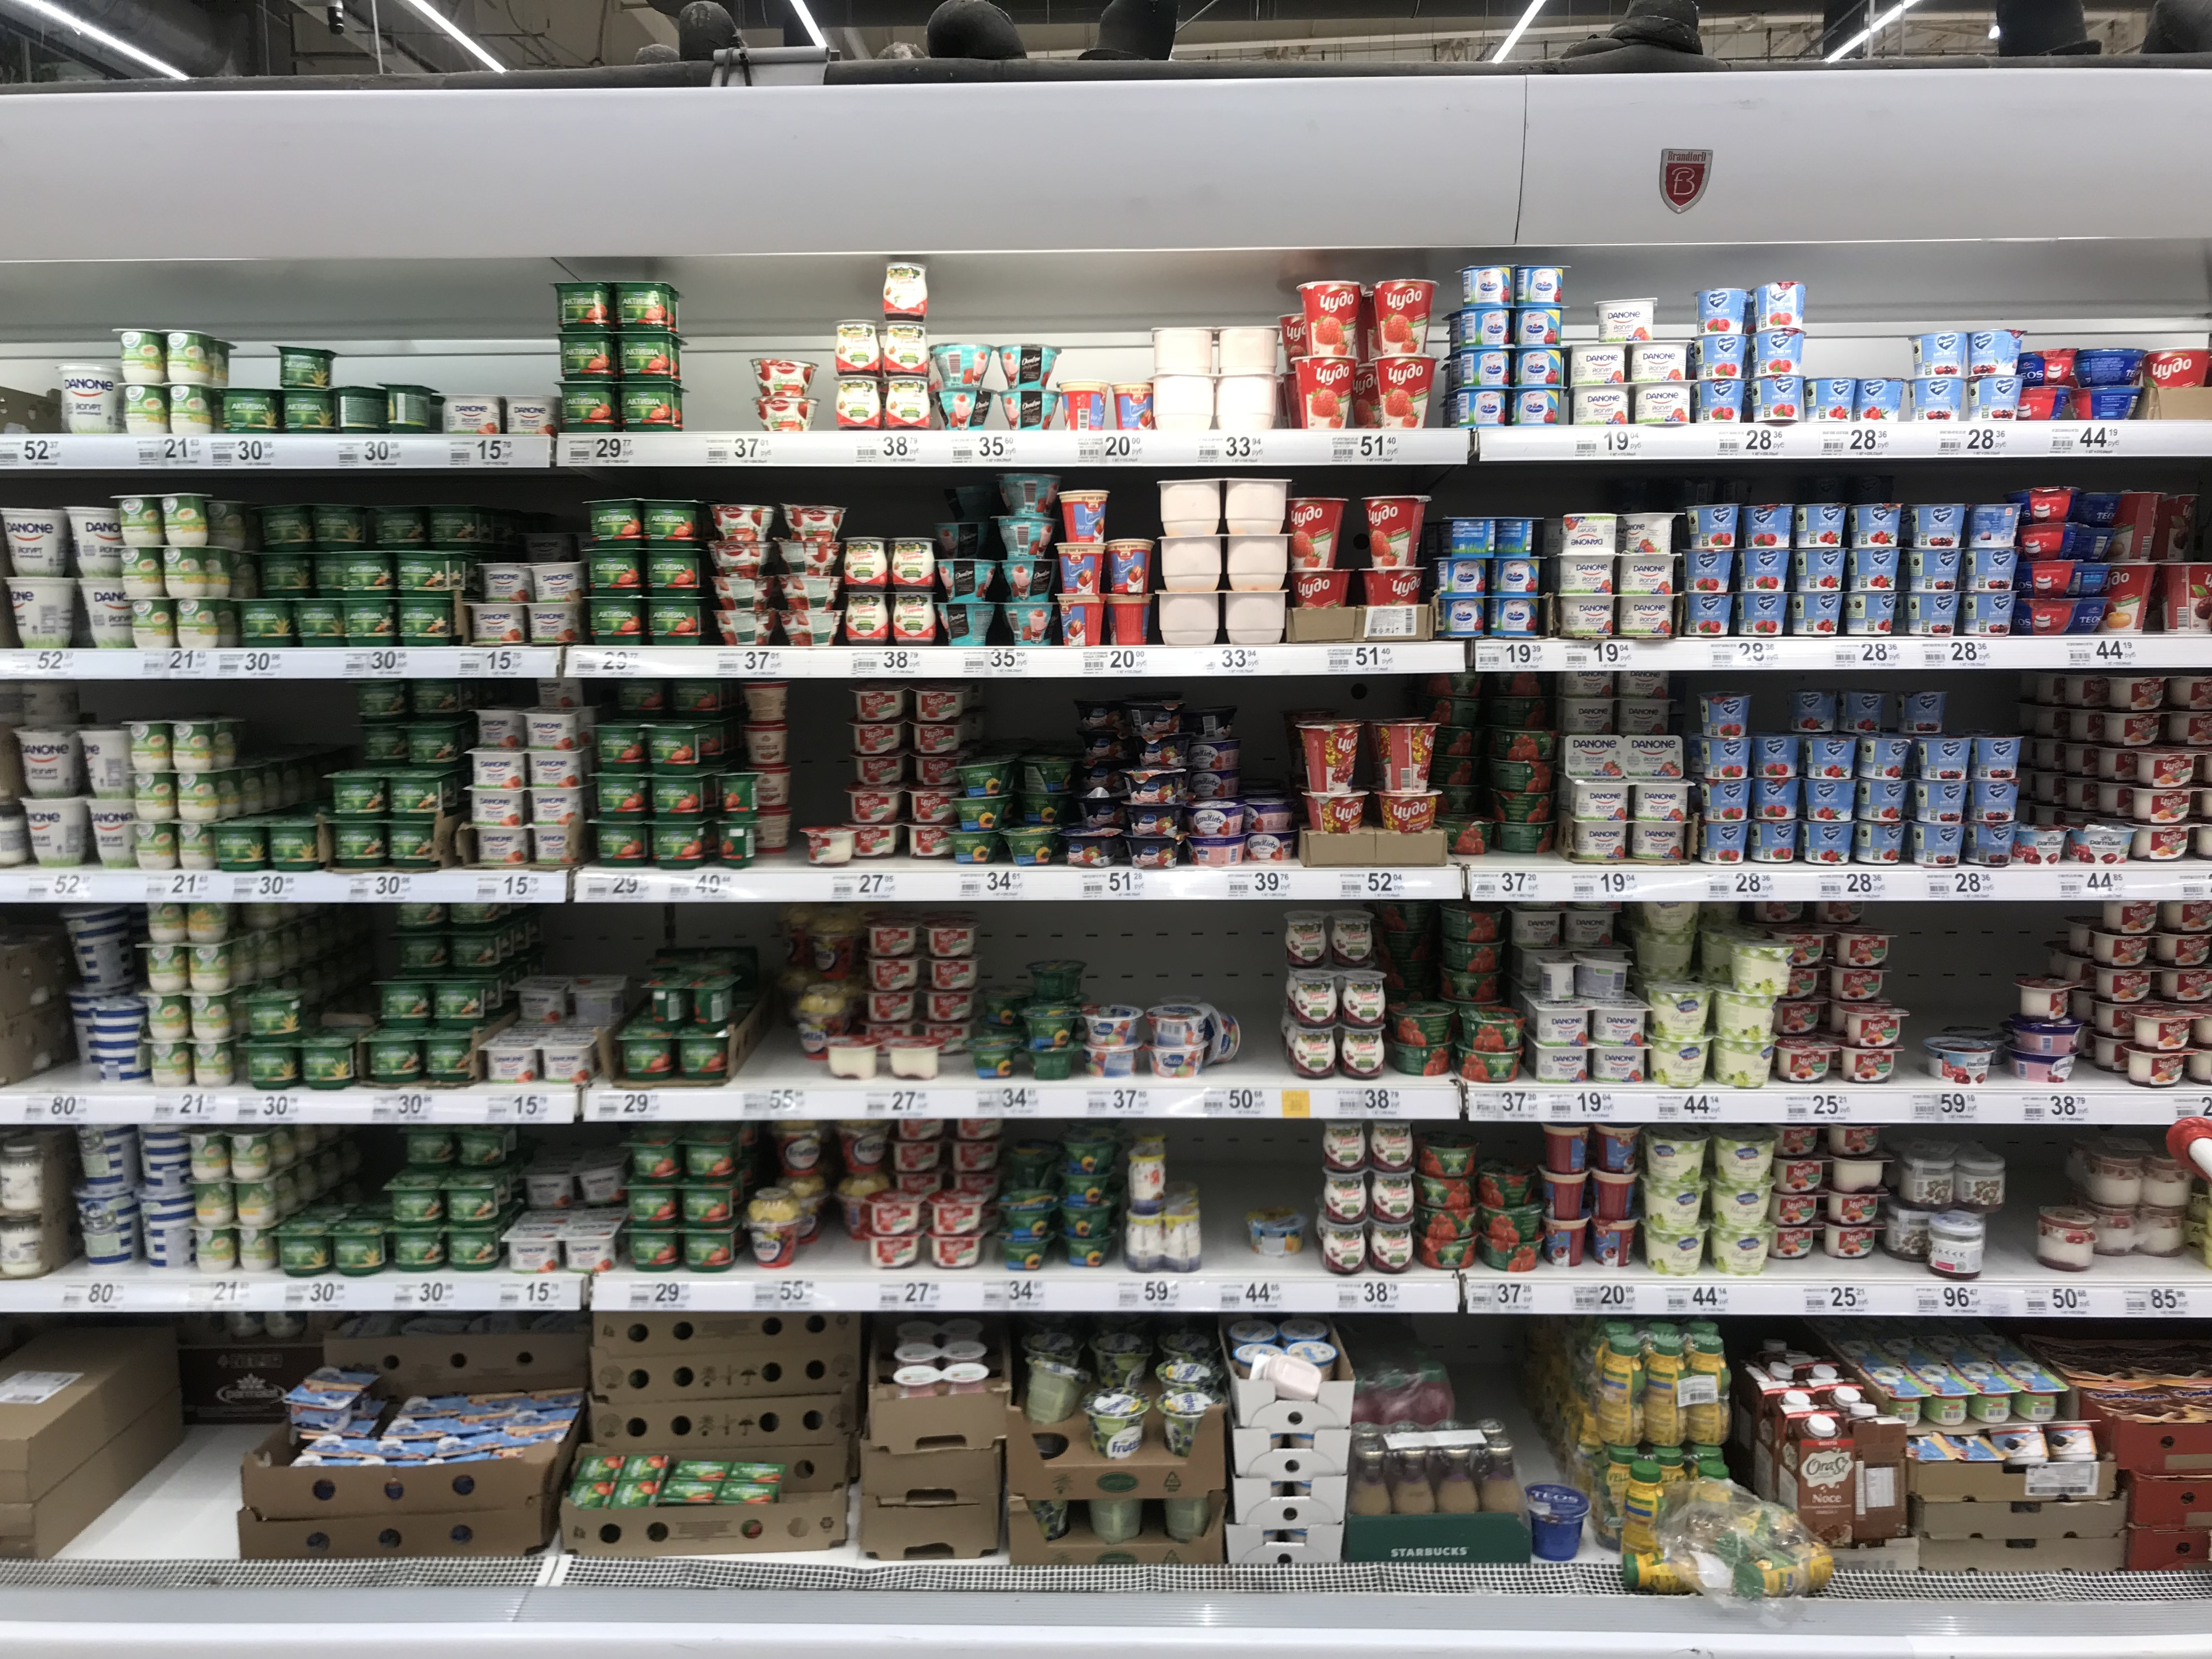yogbox: (1209, 361, 1284, 430), (1522, 1485, 1587, 1558), (1930, 1211, 1998, 1279), (1223, 471, 1292, 537), (1648, 976, 1716, 1042), (1151, 368, 1223, 430), (1153, 587, 1224, 650), (1153, 476, 1230, 533), (1153, 1385, 1221, 1450), (1303, 282, 1359, 357), (1224, 532, 1292, 592), (1029, 1361, 1087, 1432), (1303, 721, 1360, 789), (1083, 1391, 1139, 1459), (1712, 988, 1782, 1042), (1714, 1133, 1775, 1194), (1738, 938, 1799, 999), (1228, 587, 1291, 647), (2107, 748, 2196, 789), (1153, 533, 1221, 587), (1639, 1175, 1709, 1227), (1379, 728, 1432, 795), (1291, 500, 1341, 568), (1644, 1039, 1712, 1089), (2041, 1209, 2097, 1270), (2158, 565, 2212, 627), (1378, 289, 1428, 356), (1217, 324, 1285, 373), (1789, 542, 1846, 599), (751, 1195, 801, 1260), (1588, 1213, 1646, 1269), (1644, 1131, 1703, 1185), (1299, 359, 1346, 427), (2104, 561, 2149, 631), (1926, 1040, 1996, 1086), (2015, 592, 2081, 640), (1104, 598, 1160, 653), (2005, 1042, 2081, 1082), (1381, 361, 1428, 425), (1709, 1182, 1773, 1229), (1247, 1211, 1310, 1258), (1836, 680, 1890, 732), (2008, 1019, 2085, 1056), (2010, 979, 2076, 1021), (1714, 1033, 1766, 1086), (2087, 1155, 2141, 1206), (1372, 493, 1413, 561), (2125, 1049, 2193, 1089), (1721, 1232, 1777, 1281), (1693, 694, 1757, 735), (1205, 1006, 1251, 1065), (1646, 1232, 1705, 1277), (1151, 328, 1212, 371), (2071, 349, 2137, 389), (829, 319, 880, 371), (1094, 1337, 1148, 1385), (1590, 1175, 1644, 1223), (775, 1119, 820, 1176), (1059, 830, 1127, 868), (1909, 331, 1966, 376), (1054, 547, 1103, 599), (2015, 558, 2076, 599), (841, 1121, 888, 1175), (1543, 1215, 1590, 1269), (1846, 540, 1900, 587), (712, 502, 775, 542), (1082, 1042, 1144, 1082), (810, 915, 853, 972), (777, 605, 841, 643), (2101, 896, 2165, 934), (2128, 1012, 2193, 1051), (1858, 373, 1909, 422), (1738, 545, 1789, 594), (1858, 823, 1907, 873), (2149, 345, 2210, 385), (1966, 331, 2022, 375), (1848, 505, 1904, 549), (1968, 549, 2024, 592), (2109, 666, 2165, 709), (1846, 1042, 1902, 1086), (1905, 504, 1968, 542), (1822, 1188, 1885, 1227), (894, 533, 934, 592), (1959, 587, 2012, 633), (1700, 821, 1752, 866), (801, 988, 838, 1053), (1449, 516, 1503, 559), (1752, 282, 1806, 326), (1125, 1213, 1167, 1269), (1968, 502, 2024, 544), (2074, 382, 2132, 422), (118, 329, 165, 378), (752, 357, 815, 394), (742, 676, 789, 725), (1959, 1157, 2006, 1206), (883, 326, 927, 378), (2132, 782, 2191, 821), (1061, 490, 1106, 538), (1968, 821, 2017, 866), (1454, 308, 1507, 350), (1907, 556, 1959, 598), (2019, 519, 2081, 554), (1308, 796, 1367, 833), (1846, 1006, 1905, 1042), (1487, 556, 1541, 596), (1693, 291, 1747, 331), (1966, 383, 2020, 423), (1918, 732, 1973, 770), (1541, 1127, 1588, 1173), (1806, 371, 1851, 418), (834, 378, 878, 427), (1113, 535, 1148, 596), (1507, 350, 1564, 387), (2130, 824, 2188, 861), (1839, 934, 1897, 971), (1648, 901, 1700, 941), (1858, 741, 1911, 781), (165, 331, 204, 385), (1146, 1046, 1205, 1080), (1294, 974, 1339, 1019), (120, 383, 164, 430), (1514, 308, 1569, 345), (1797, 504, 1848, 544), (1796, 591, 1846, 631), (1850, 594, 1900, 634), (1749, 784, 1799, 824), (712, 608, 770, 643), (1601, 1126, 1639, 1178), (1129, 767, 1181, 805), (2017, 350, 2074, 385), (801, 826, 855, 863), (1486, 601, 1540, 638), (1768, 1194, 1822, 1230), (1972, 737, 2026, 774), (120, 547, 164, 592), (1707, 781, 1752, 824), (120, 493, 162, 540), (1345, 1032, 1386, 1079), (1911, 591, 1958, 633), (780, 575, 836, 610), (1244, 800, 1299, 835), (1454, 350, 1510, 385), (711, 572, 772, 603), (2020, 491, 2085, 521), (843, 537, 887, 580), (1545, 1178, 1590, 1220), (1501, 511, 1541, 558), (1153, 1007, 1207, 1042), (871, 1230, 920, 1269), (1291, 915, 1329, 964), (1461, 265, 1510, 303), (1745, 504, 1794, 542), (1904, 690, 1952, 728), (1191, 805, 1251, 836), (888, 1039, 944, 1072), (1514, 267, 1569, 300), (1822, 1225, 1878, 1258), (1291, 1032, 1334, 1073), (1757, 333, 1801, 375), (1745, 591, 1787, 634), (2019, 826, 2071, 861), (1914, 819, 1958, 861), (206, 500, 246, 545), (1442, 596, 1487, 636), (1688, 547, 1733, 587), (1684, 596, 1730, 636), (712, 544, 770, 575), (869, 1199, 923, 1232), (1327, 1220, 1364, 1269), (1778, 1161, 1827, 1197), (1089, 1007, 1139, 1042), (1510, 392, 1566, 423), (1797, 690, 1841, 730), (1372, 1126, 1411, 1171), (1757, 382, 1803, 420), (1754, 823, 1799, 861), (1242, 831, 1294, 864), (1439, 558, 1486, 594), (786, 507, 843, 537), (169, 382, 204, 430), (871, 920, 920, 955), (782, 537, 836, 568), (1381, 800, 1435, 831), (160, 495, 200, 537), (174, 723, 214, 765), (883, 268, 925, 308), (1698, 342, 1749, 375), (1973, 782, 2024, 816), (890, 378, 928, 422), (848, 594, 887, 638), (829, 1040, 874, 1077), (1190, 836, 1249, 864), (758, 397, 810, 429), (852, 824, 899, 859), (2015, 387, 2067, 418), (2111, 709, 2160, 742), (1916, 782, 1965, 816), (1061, 605, 1101, 645), (1327, 1176, 1366, 1218), (1190, 737, 1240, 769), (895, 599, 930, 645), (1129, 1157, 1163, 1202), (1191, 704, 1237, 739), (1912, 380, 1958, 415), (1688, 507, 1733, 542), (1784, 1042, 1829, 1077), (1339, 913, 1369, 965), (176, 774, 212, 816), (1167, 1220, 1198, 1269), (1371, 572, 1420, 603), (134, 775, 169, 819), (1130, 805, 1176, 838), (1696, 385, 1747, 415), (951, 1141, 998, 1173), (1130, 704, 1177, 735), (2165, 974, 2212, 1006), (754, 812, 792, 850), (1374, 1229, 1409, 1270), (1190, 770, 1242, 798), (1127, 737, 1176, 767), (918, 687, 961, 720), (1348, 978, 1381, 1021), (1458, 392, 1501, 425), (1804, 823, 1848, 856), (1127, 840, 1181, 866), (1698, 742, 1749, 770), (749, 728, 787, 765), (165, 551, 200, 591), (174, 606, 214, 641), (1298, 577, 1345, 606), (855, 694, 904, 721), (871, 958, 916, 988), (932, 1239, 977, 1269), (134, 605, 171, 641), (937, 1195, 974, 1232), (1329, 1131, 1366, 1168), (188, 904, 226, 939), (186, 1136, 221, 1175), (197, 1232, 232, 1270), (1062, 389, 1101, 423), (132, 723, 164, 765), (148, 899, 179, 941), (2099, 939, 2151, 964), (2160, 941, 2209, 967), (2099, 972, 2151, 997), (1836, 971, 1881, 999), (1862, 784, 1902, 816), (195, 997, 225, 1039), (853, 725, 900, 751), (852, 795, 899, 821), (930, 931, 977, 957), (240, 1229, 273, 1265), (1780, 997, 1813, 1033), (197, 1049, 228, 1087), (233, 1136, 265, 1175), (244, 1185, 275, 1223), (1115, 383, 1146, 422), (1775, 1230, 1813, 1262), (197, 943, 226, 983), (146, 999, 178, 1035), (914, 789, 951, 821), (925, 993, 972, 1018), (894, 1141, 937, 1168), (152, 1047, 185, 1080), (183, 826, 209, 868), (197, 1190, 228, 1225), (150, 948, 179, 985), (1379, 1182, 1409, 1218), (141, 826, 167, 866), (1811, 777, 1846, 807), (864, 995, 913, 1016), (920, 727, 958, 753), (934, 962, 972, 988), (759, 774, 791, 805), (862, 760, 899, 786), (2175, 903, 2212, 929), (918, 828, 951, 856), (1811, 742, 1848, 767), (1761, 746, 1791, 770), (918, 756, 946, 781)
yogbox.activ.ky.kivi: (374, 979, 434, 1030), (368, 1035, 427, 1086), (428, 1032, 488, 1082), (430, 976, 489, 1026), (455, 1126, 514, 1176), (395, 1126, 455, 1176), (446, 1175, 505, 1225), (390, 1175, 449, 1225), (448, 927, 507, 978), (385, 823, 444, 873), (327, 819, 387, 870), (329, 767, 388, 817), (388, 769, 448, 819), (402, 718, 462, 769), (348, 718, 408, 769), (406, 667, 465, 718), (345, 594, 404, 645), (397, 547, 456, 598), (423, 498, 482, 549), (369, 500, 428, 551), (392, 925, 449, 976), (348, 669, 406, 720), (399, 599, 456, 650), (343, 549, 401, 599), (387, 1222, 444, 1272), (446, 1225, 503, 1276)
yogbox.activ.ky.klubnik: (613, 331, 672, 380), (554, 282, 611, 331), (643, 497, 702, 544), (643, 549, 702, 596), (592, 774, 650, 821), (590, 819, 648, 866), (648, 821, 705, 868), (650, 774, 707, 821), (646, 723, 704, 770), (590, 725, 648, 772), (610, 674, 667, 721), (665, 676, 723, 723), (585, 598, 643, 645), (589, 549, 646, 596), (585, 497, 643, 544), (646, 594, 704, 641), (557, 382, 615, 429), (618, 385, 676, 432), (556, 333, 613, 380), (613, 282, 671, 329), (676, 1035, 733, 1082), (617, 1035, 674, 1082), (678, 1136, 735, 1183), (679, 1185, 737, 1232), (681, 1227, 738, 1274), (622, 1229, 679, 1276), (624, 1183, 681, 1230), (622, 1134, 679, 1182)
yogbox.activ.ky.otrub: (266, 821, 322, 871), (244, 990, 300, 1040), (298, 599, 354, 650), (254, 545, 310, 596), (312, 500, 368, 551), (282, 383, 338, 434), (279, 335, 334, 385), (331, 1223, 387, 1274), (273, 1227, 329, 1277), (212, 823, 266, 873), (300, 1040, 354, 1091), (240, 1042, 294, 1093), (242, 596, 296, 647), (260, 500, 314, 551), (225, 387, 279, 437)
yogbox.activ.sf.klubnik: (1418, 1133, 1480, 1178), (1388, 1002, 1454, 1044), (1479, 1162, 1540, 1206), (1440, 904, 1507, 945), (1456, 1042, 1522, 1082), (1439, 938, 1503, 978), (1378, 896, 1442, 934), (1460, 1012, 1524, 1051), (1493, 756, 1561, 791), (1491, 788, 1559, 823), (1491, 727, 1559, 760), (1493, 823, 1561, 856), (1430, 821, 1498, 854), (1479, 1206, 1543, 1241), (1416, 1175, 1480, 1209), (1388, 1044, 1458, 1075), (1479, 1239, 1543, 1272), (1414, 1237, 1479, 1270), (1414, 1206, 1479, 1239), (1442, 972, 1510, 1004), (1433, 786, 1487, 816), (1433, 756, 1487, 786), (1432, 728, 1486, 756)
